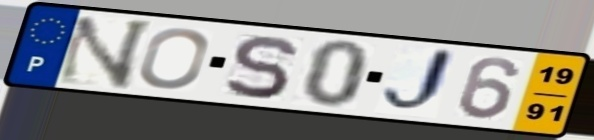0: (297, 37, 375, 110)
6: (453, 55, 524, 121)
J: (378, 45, 459, 117)
N: (50, 15, 158, 91)
O: (136, 26, 212, 91)
S: (221, 33, 300, 101)
